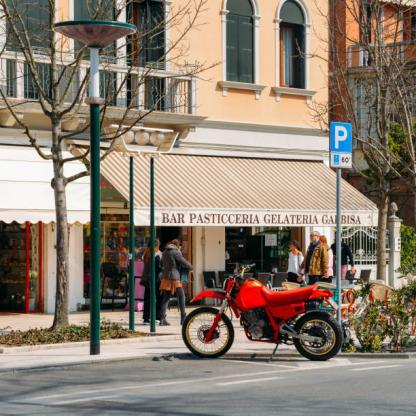Motorcycle: (180, 256, 358, 374)
